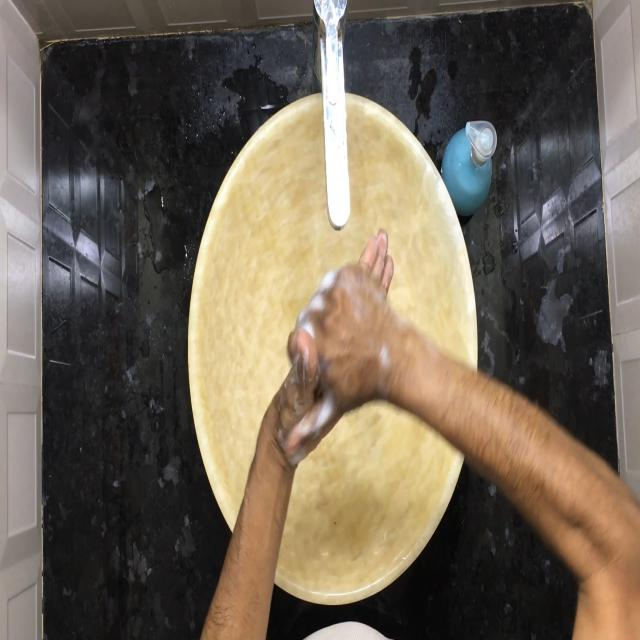step_5: (285, 223, 399, 460)
